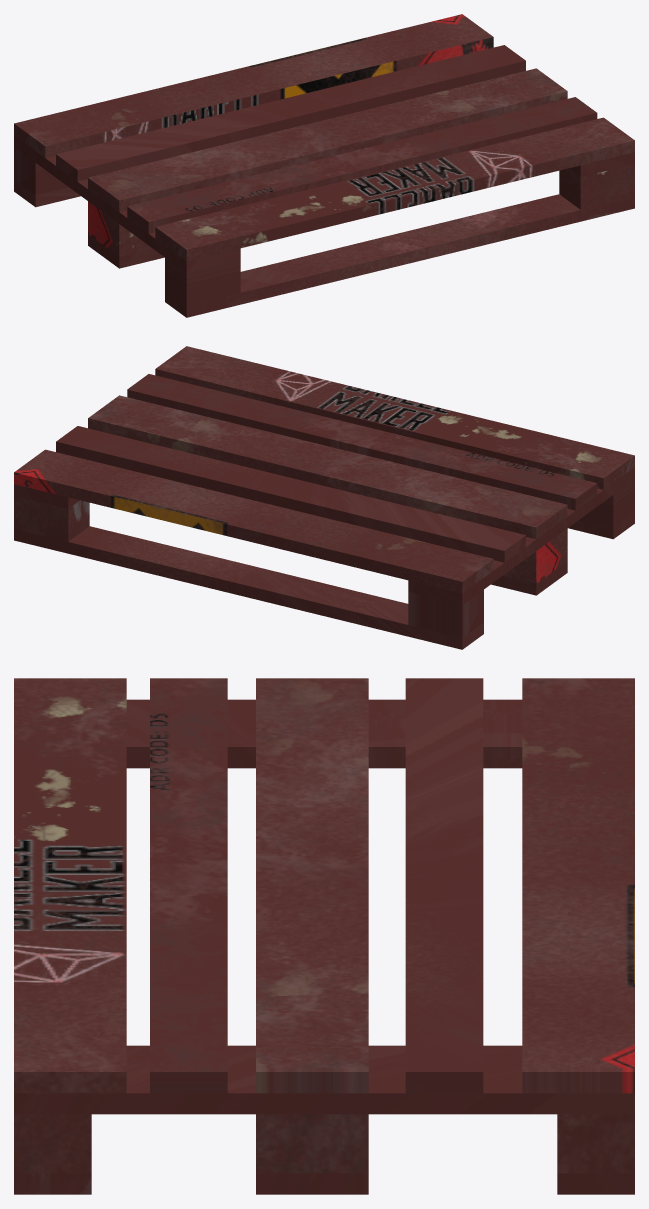
Rendered from CS_palette.FBX.
3 renders of one model, top to bottom at view 1: azimuth 30°, elevation 25°; view 2: azimuth 150°, elevation 25°; view 3: azimuth 270°, elevation 25°, orthographic. The views are drawn at different scales.
Visible parts, largest first — view 1: SM_palette; view 2: SM_palette; view 3: SM_palette.
Boxes of the visible parts, <box> form: SM_palette: <box>14,14,634,317</box>; SM_palette: <box>14,346,634,649</box>; SM_palette: <box>14,678,634,1194</box>.
Size of the model in its own units: 144 by 96 by 20.88.
